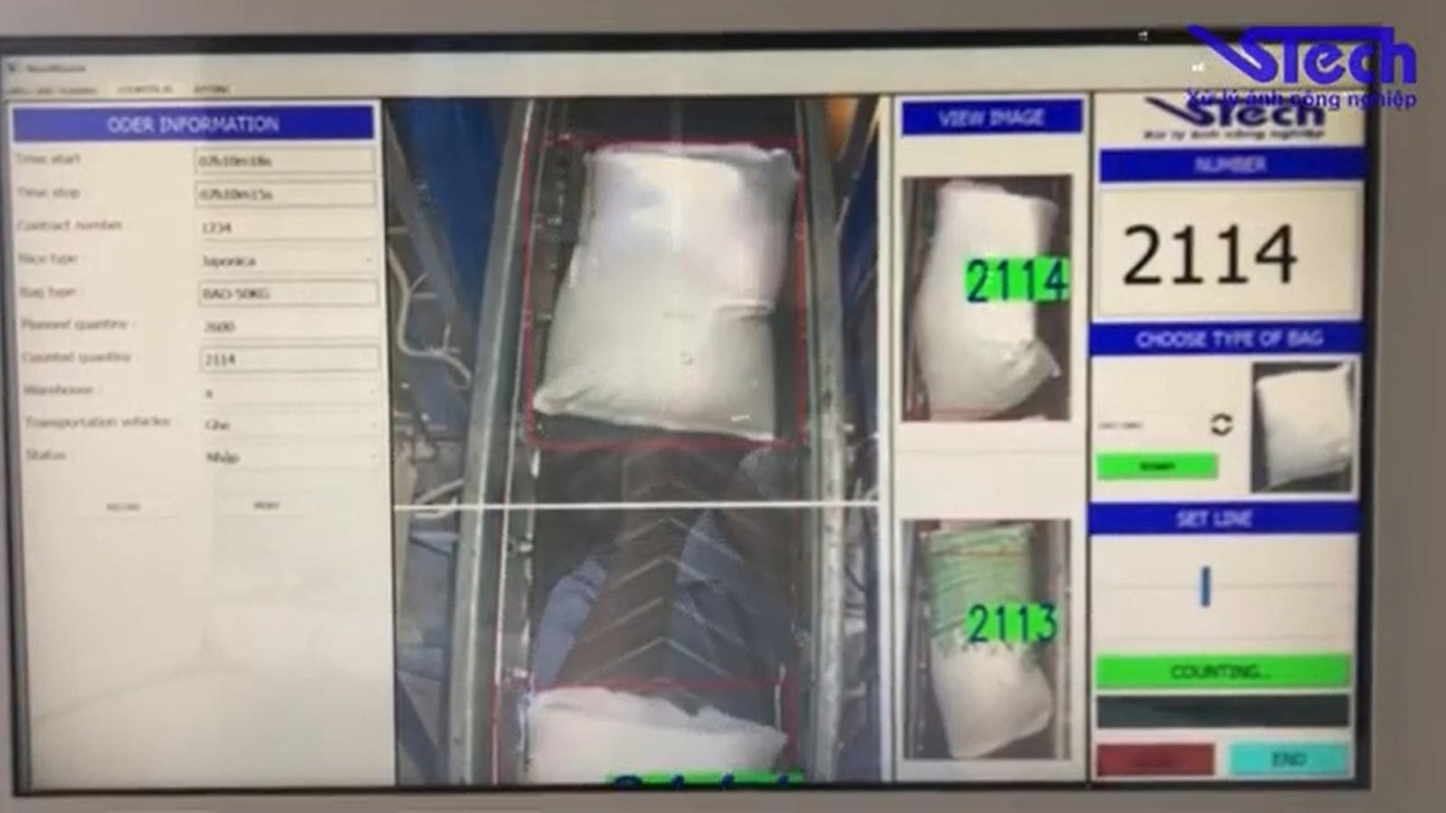rice-bag: (532, 144, 796, 443), (906, 176, 1070, 421), (908, 519, 1066, 761)
